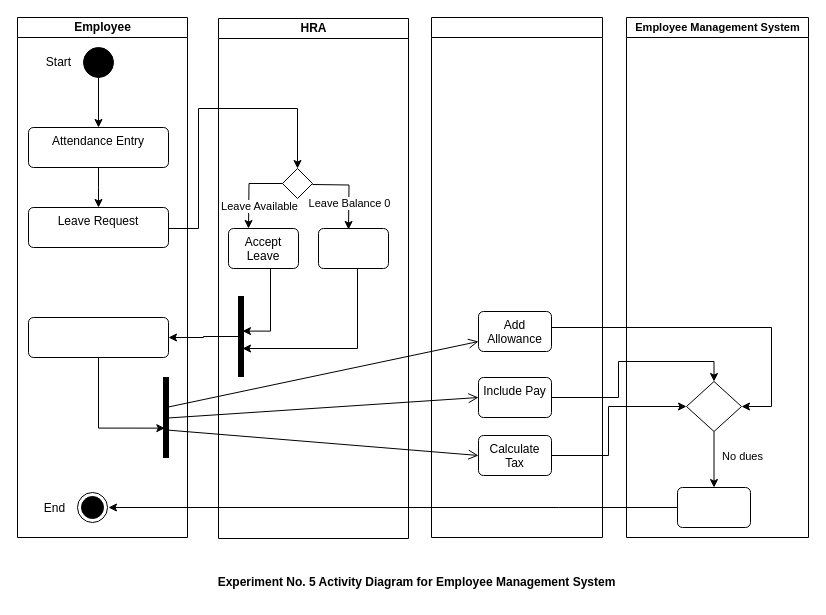
Some shapes in this 826 by 615 pixel diagram are drawn without their labels. The box of each missing label's shape, as (x1, y1, x2, y2) in pixels:
Accountant: (430, 16, 602, 538)
Process Salary: (28, 316, 168, 358)
Reject Leave: (318, 228, 388, 268)
Release Salary: (676, 486, 750, 528)
